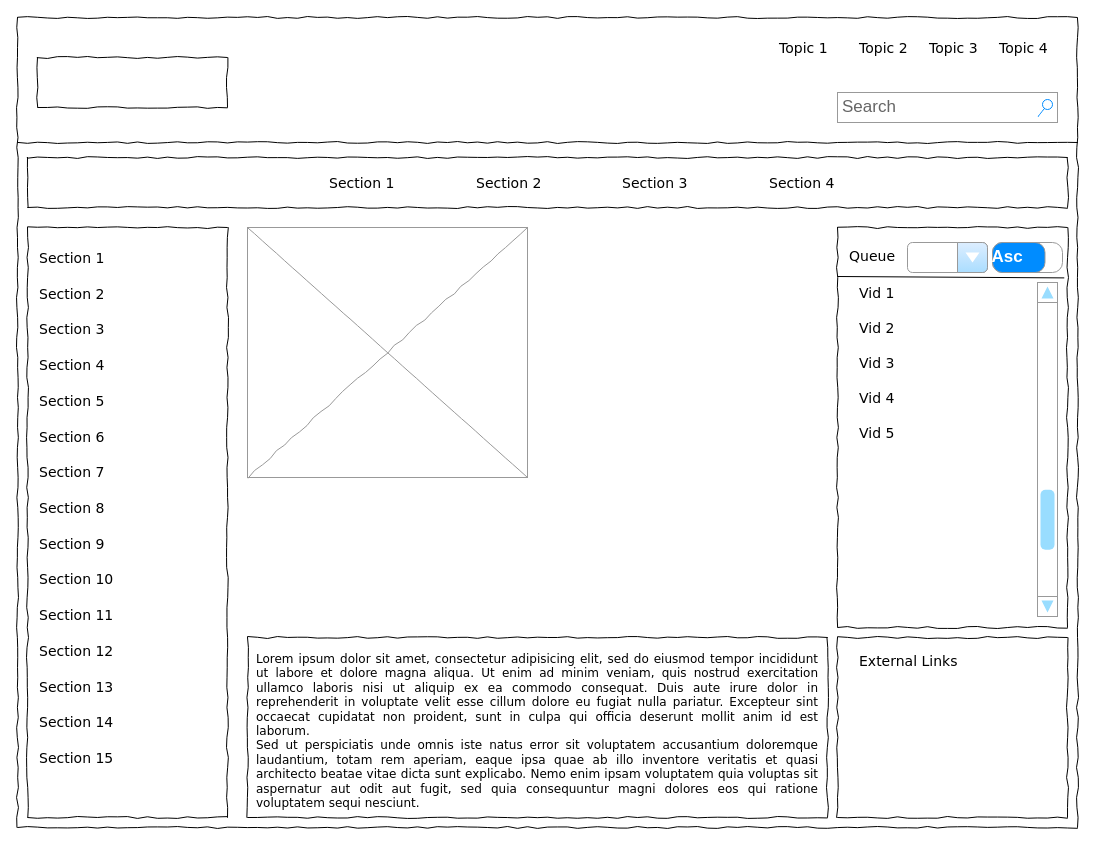
The diagram is 1095 pixels wide and 845 high, and some of its shapes have lost their labels. The centre of each missing label's shape, as x and y in pixels:
"Filter" goes at point 947,257.
"LOGO" goes at point 132,82.
